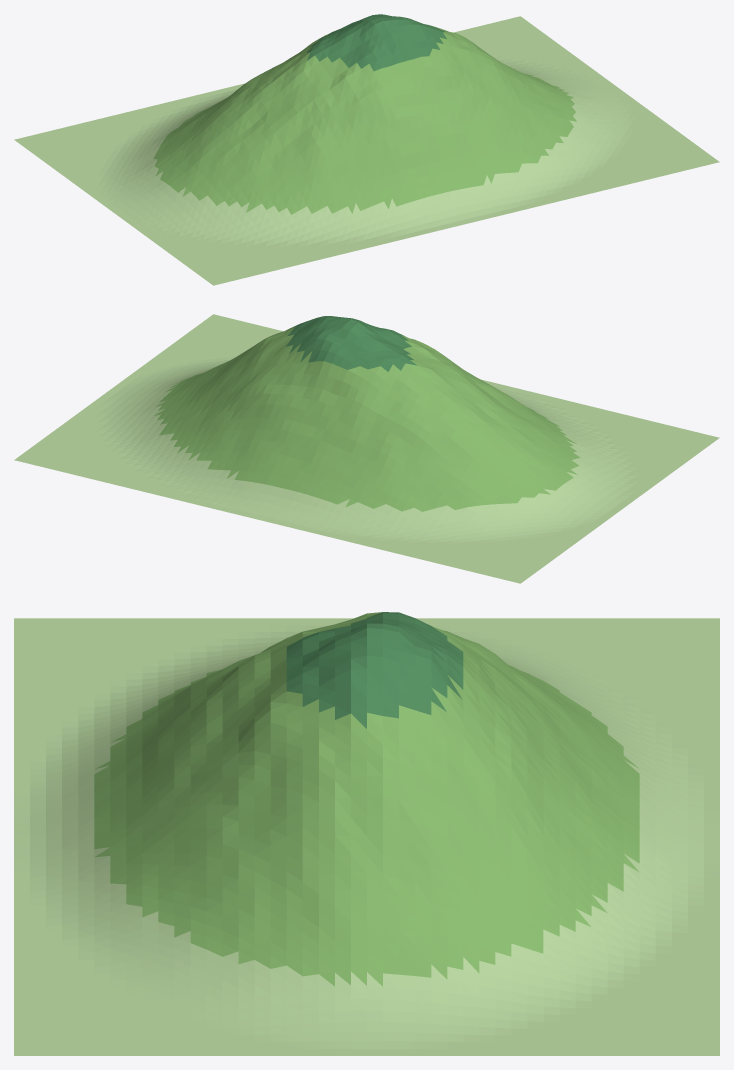
The model's file is hill.glb.
3 renders of one model, top to bottom at view 1: azimuth 30°, elevation 25°; view 2: azimuth 150°, elevation 25°; view 3: azimuth 270°, elevation 25°, orthographic. The views are drawn at different scales.
Parts seen in each view (by area): view 1: hill; view 2: hill; view 3: hill.
Part boxes in pixels (<box>): hill: <box>14,14,719,285</box>; hill: <box>14,314,719,583</box>; hill: <box>14,612,719,1055</box>.
Size of the model in its own units: 44 by 10.45 by 30.
